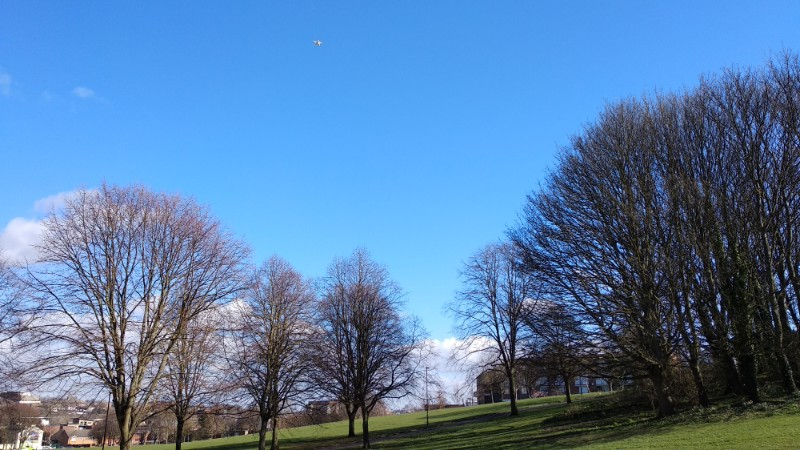drone: (312, 38, 324, 48)
